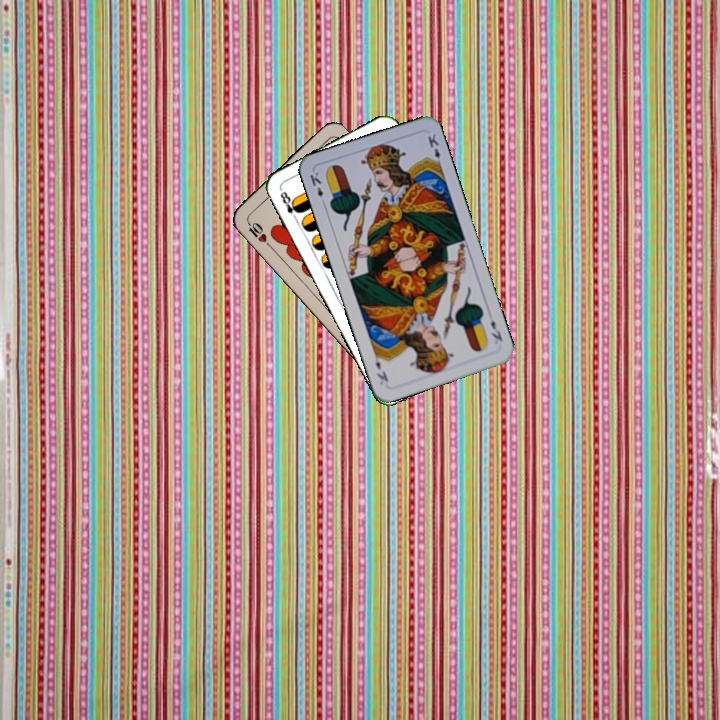E8: (276, 187, 303, 224)
EK: (306, 168, 328, 208), (487, 316, 505, 344)
H10: (242, 216, 273, 249)
